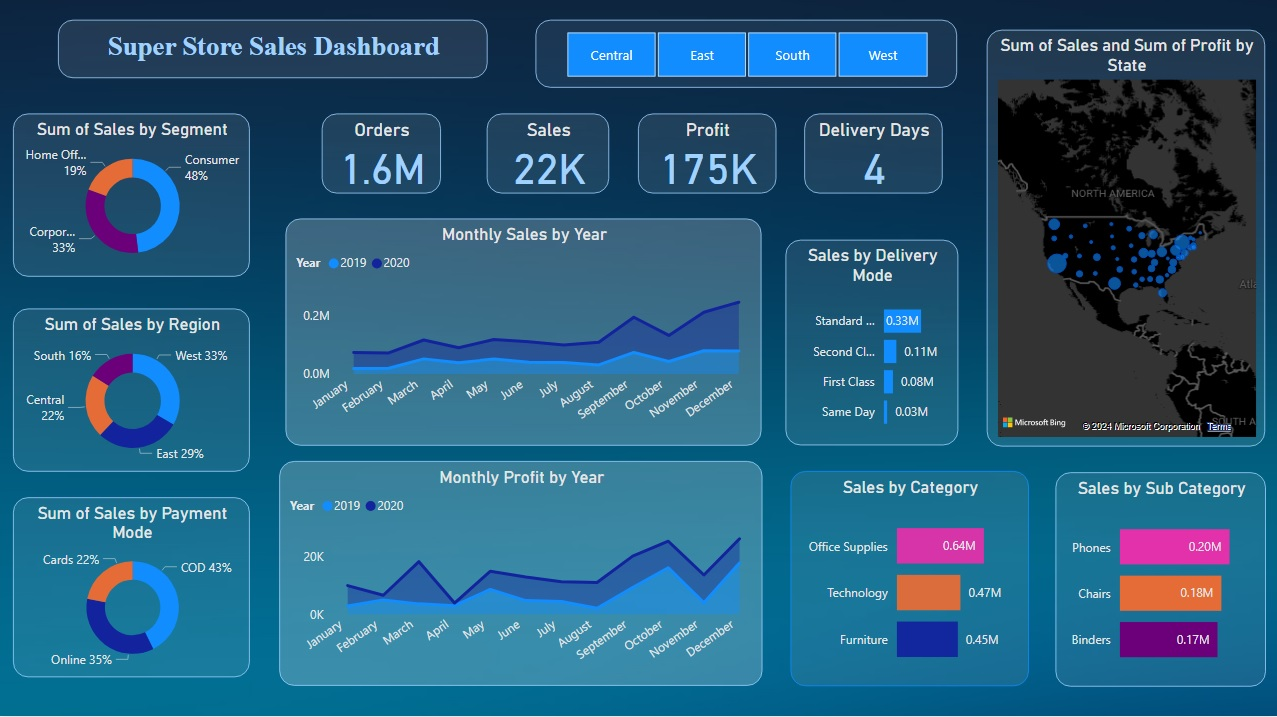

This screenshot's page, from the dashboard's own definition file:
{"tool":"powerbi","page":{"name":"Sales","canvas":[1280,720],"ordinal":0},"visuals":[{"type":"stackedAreaChart","title":"Monthly Sales by Year","fields":{"Y":["Sum(SuperStore Sales DataSet.Sales)"],"Category":["SuperStore Sales DataSet.Order Date.Variation.Date Hierarchy.Month","SuperStore Sales DataSet.Order Date.Variation.Date Hierarchy.Day"],"Series":["SuperStore Sales DataSet.Order Date.Variation.Date Hierarchy.Year"]},"box":[288.1,222.6,476.2,227.4],"z":0},{"type":"clusteredBarChart","title":"Sales by Category","fields":{"Category":["SuperStore Sales DataSet.Category"],"Y":["Sum(SuperStore Sales DataSet.Sales)"]},"box":[792.9,475,238.1,215.5],"z":1000},{"type":"clusteredBarChart","title":"Sales by Delivery Mode","fields":{"Category":["SuperStore Sales DataSet.Delivery Mode"],"Y":["Sum(SuperStore Sales DataSet.Sales)"]},"box":[786.9,244,172.6,206],"z":2000},{"type":"clusteredBarChart","title":"Sales by Sub Category","fields":{"Category":["SuperStore Sales DataSet.Sub-Category"],"Y":["Sum(SuperStore Sales DataSet.Sales)"]},"box":[1057.1,476.2,210.7,214.3],"z":3000},{"type":"stackedAreaChart","title":"Monthly Profit by Year","fields":{"Category":["SuperStore Sales DataSet.Order Date.Variation.Date Hierarchy.Month","SuperStore Sales DataSet.Order Date.Variation.Date Hierarchy.Day"],"Series":["SuperStore Sales DataSet.Order Date.Variation.Date Hierarchy.Year"],"Y":["Sum(SuperStore Sales DataSet.Profit)"]},"box":[281,465.5,483.3,225],"z":4000},{"type":"map","fields":{"Category":["SuperStore Sales DataSet.State"],"Size":["Sum(SuperStore Sales DataSet.Sales)"]},"box":[989.3,33.3,278.6,416.7],"z":5000},{"type":"donutChart","fields":{"Category":["SuperStore Sales DataSet.Segment"],"Y":["Sum(SuperStore Sales DataSet.Sales)"]},"box":[15.5,117.9,236.9,163.1],"z":6000},{"type":"donutChart","fields":{"Category":["SuperStore Sales DataSet.Payment Mode"],"Y":["Sum(SuperStore Sales DataSet.Sales)"]},"box":[15.5,501.2,236.9,179.8],"z":7000},{"type":"slicer","fields":{"Values":["SuperStore Sales DataSet.Region"]},"box":[538.1,23.8,421.4,67.9],"z":8000},{"type":"textbox","box":[59.5,23.8,429.8,58.3],"z":9000},{"type":"card","title":"Orders","fields":{"Values":["Sum(SuperStore Sales DataSet.Sales)"]},"box":[323.8,117.9,119,79.8],"z":10000},{"type":"card","title":"Sales","fields":{"Values":["Sum(SuperStore Sales DataSet.Quantity)"]},"box":[489.3,117.9,122.6,79.8],"z":10001},{"type":"card","title":"Profit","fields":{"Values":["Sum(SuperStore Sales DataSet.Profit)"]},"box":[640.5,117.9,138.1,79.8],"z":10002},{"type":"card","title":"Delivery Days","fields":{"Values":["Avg(SuperStore Sales DataSet.Avg Delivery)"]},"box":[806,117.9,138.1,79.8],"z":10003},{"type":"donutChart","fields":{"Category":["SuperStore Sales DataSet.Region"],"Y":["Sum(SuperStore Sales DataSet.Sales)"]},"box":[15.5,311.9,236.9,163.1],"z":10004}]}

Visuals, with their boxes in screenshot pixels (x1, y1, x2, y2), scaled from the page's 1280x720 canvas onto the 1277x717 screenshot:
"Monthly Sales by Year" stackedAreaChart: {"left": 287, "top": 222, "right": 763, "bottom": 448}
"Sales by Category" clusteredBarChart: {"left": 791, "top": 473, "right": 1029, "bottom": 688}
"Sales by Delivery Mode" clusteredBarChart: {"left": 785, "top": 243, "right": 957, "bottom": 448}
"Sales by Sub Category" clusteredBarChart: {"left": 1055, "top": 474, "right": 1265, "bottom": 688}
"Monthly Profit by Year" stackedAreaChart: {"left": 280, "top": 464, "right": 763, "bottom": 688}
map - SuperStore Sales DataSet.State x Sum(SuperStore Sales DataSet.Sales): {"left": 987, "top": 33, "right": 1265, "bottom": 448}
donutChart - SuperStore Sales DataSet.Segment x Sum(SuperStore Sales DataSet.Sales): {"left": 15, "top": 117, "right": 252, "bottom": 280}
donutChart - SuperStore Sales DataSet.Payment Mode x Sum(SuperStore Sales DataSet.Sales): {"left": 15, "top": 499, "right": 252, "bottom": 678}
slicer - SuperStore Sales DataSet.Region: {"left": 537, "top": 24, "right": 957, "bottom": 91}
textbox: {"left": 59, "top": 24, "right": 488, "bottom": 82}
"Orders" card: {"left": 323, "top": 117, "right": 442, "bottom": 197}
"Sales" card: {"left": 488, "top": 117, "right": 610, "bottom": 197}
"Profit" card: {"left": 639, "top": 117, "right": 777, "bottom": 197}
"Delivery Days" card: {"left": 804, "top": 117, "right": 942, "bottom": 197}
donutChart - SuperStore Sales DataSet.Region x Sum(SuperStore Sales DataSet.Sales): {"left": 15, "top": 311, "right": 252, "bottom": 473}
